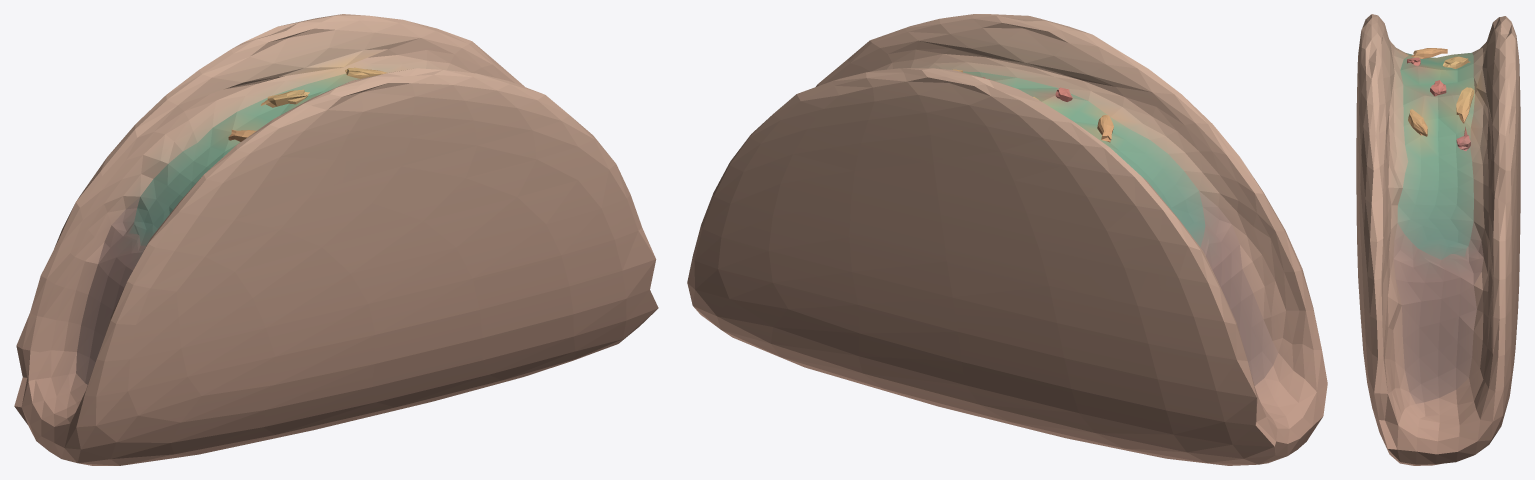
File: taco.glb
3 views of the same model, side by side, from view 1: azimuth 30°, elevation 25°; view 2: azimuth 150°, elevation 25°; view 3: azimuth 270°, elevation 25° (orthographic). The views are drawn at different scales.
Size of the model in its own units: 1 by 0.5927 by 0.2673.
